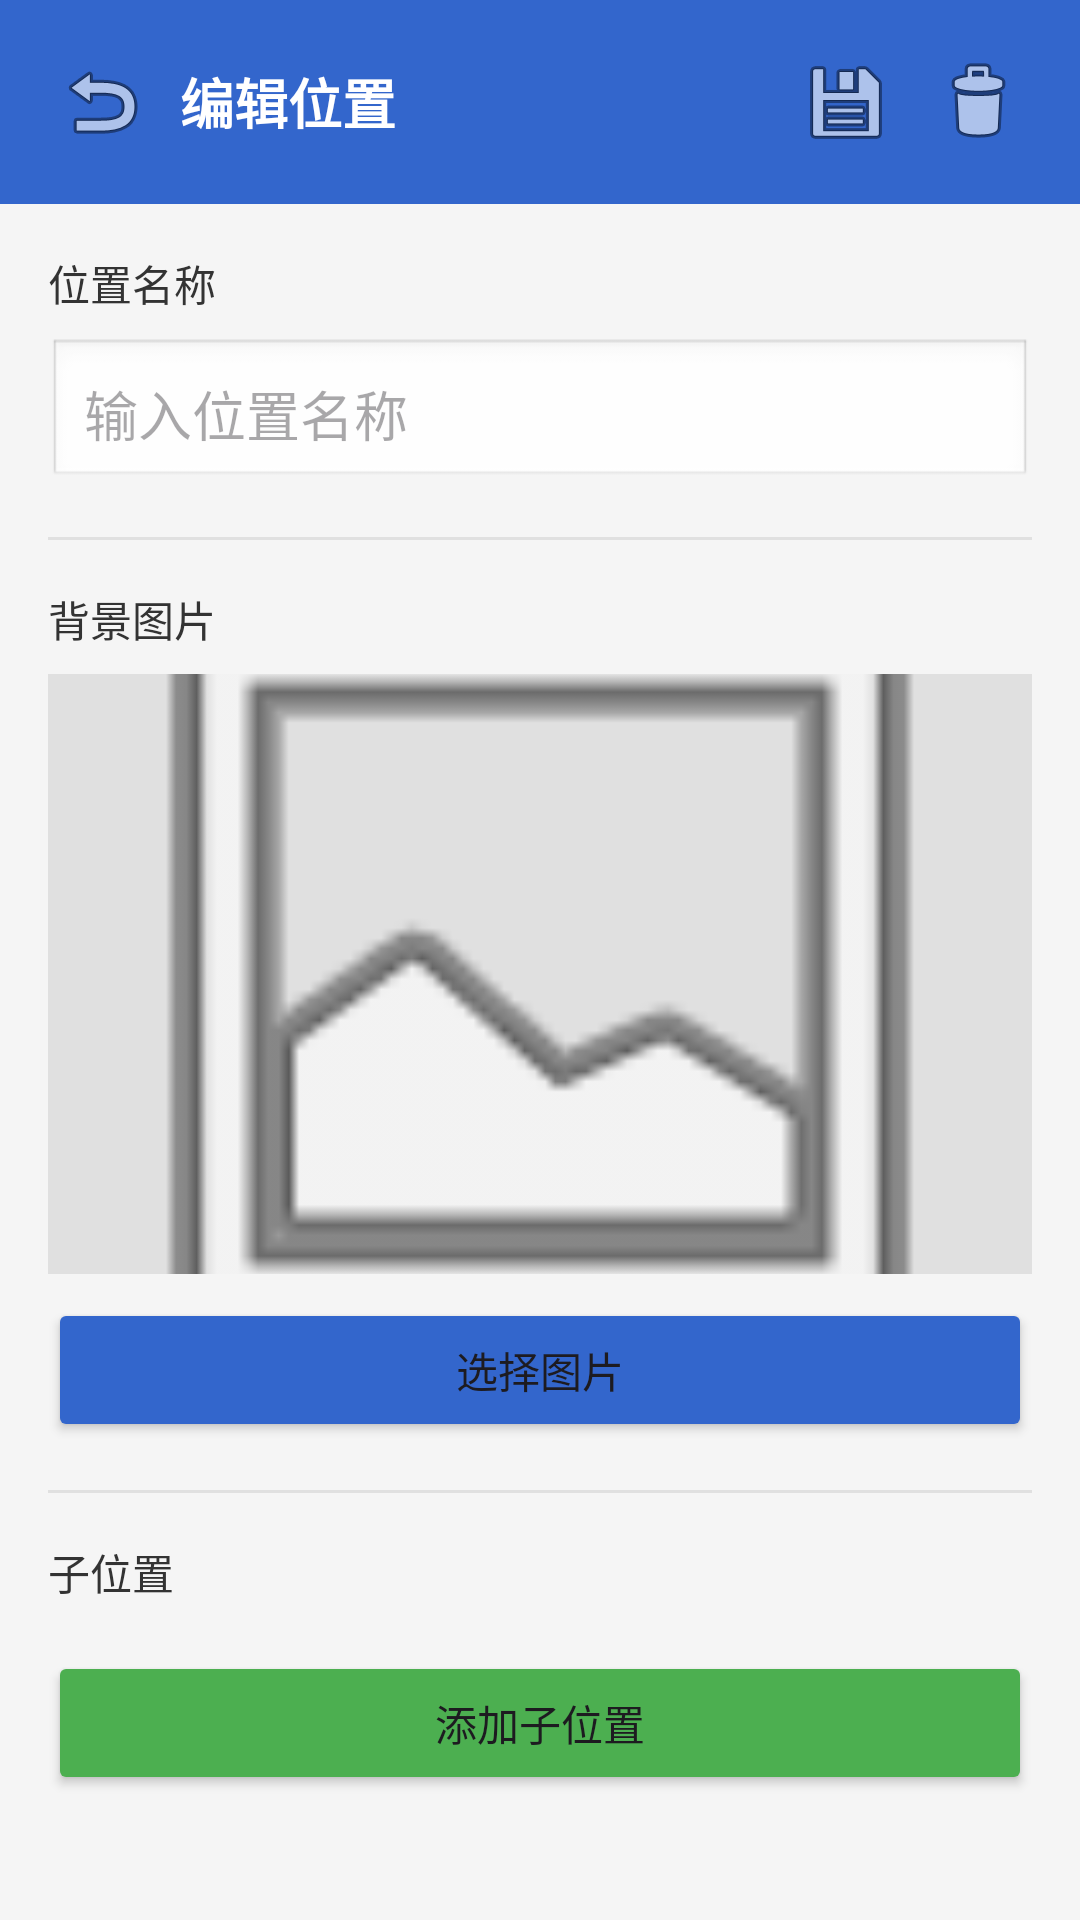

Icons on this 1080px×1920px Android screen, each with the point to tap as (x,y):
保存: (846,102)
删除: (978,100)
返回: (103,102)
